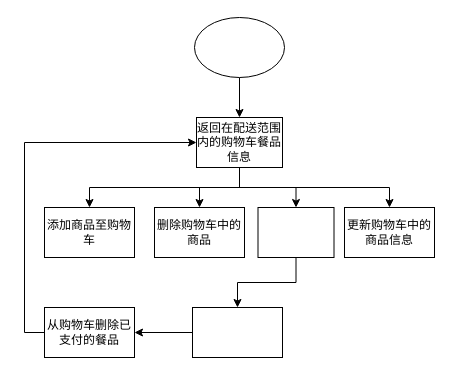
The diagram is 452 pixels wide and 375 high, and some of its shapes have lost their labels. Here are the shapes that lost their labels. From the top down, the centre of each, then its label:
At [239,47]: "发送位置信息".
At [295,232]: "用户选择购物车中的商品进行结算".
At [237,332]: "用户下单并支付".
